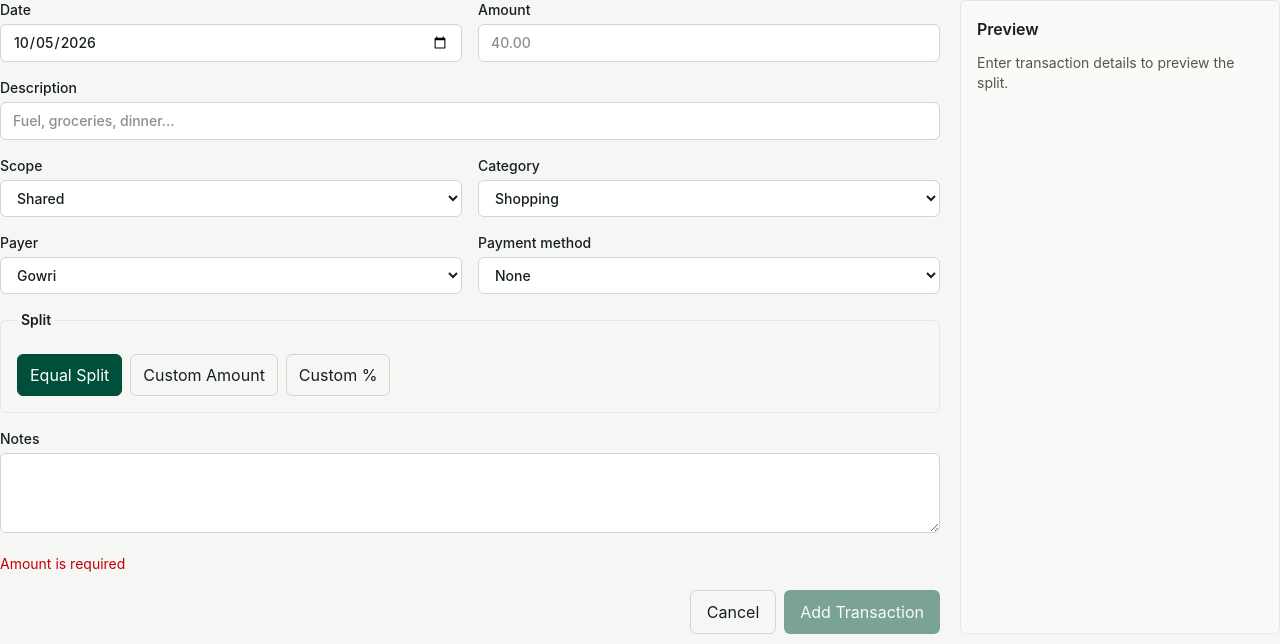
Test case: TransactionForm › custom percentage shows calculated dollar preview
This screenshot has width=1280, height=644.
Type "0.01" into the field labelled "Amount" at [709, 43], box [478,24,940,62]
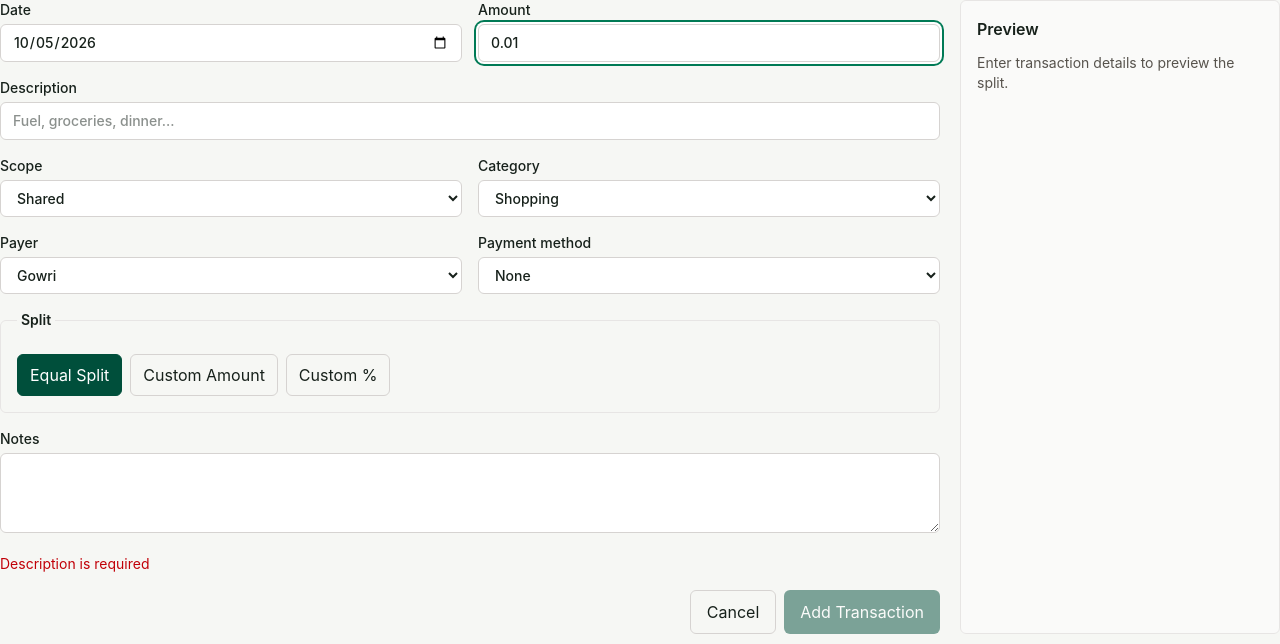
Type "Tiny split" into the field labelled "Description" at [470, 121], box [0,102,940,140]
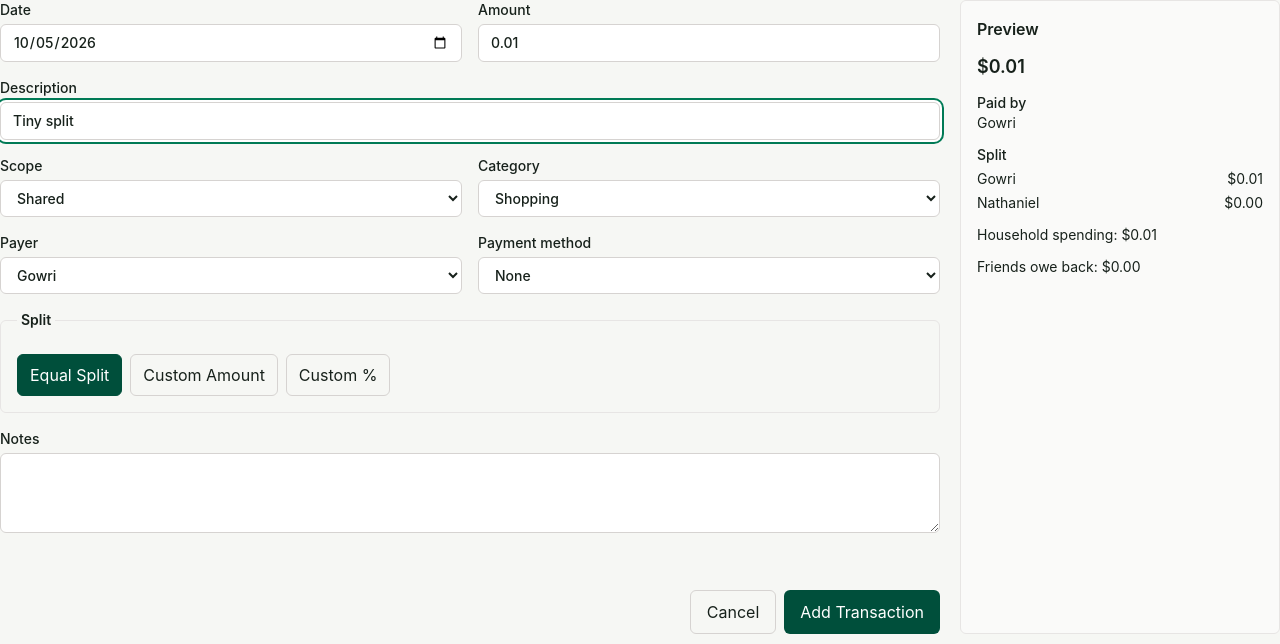
Click the button "Custom %" at [338, 375], box [286,354,390,396]
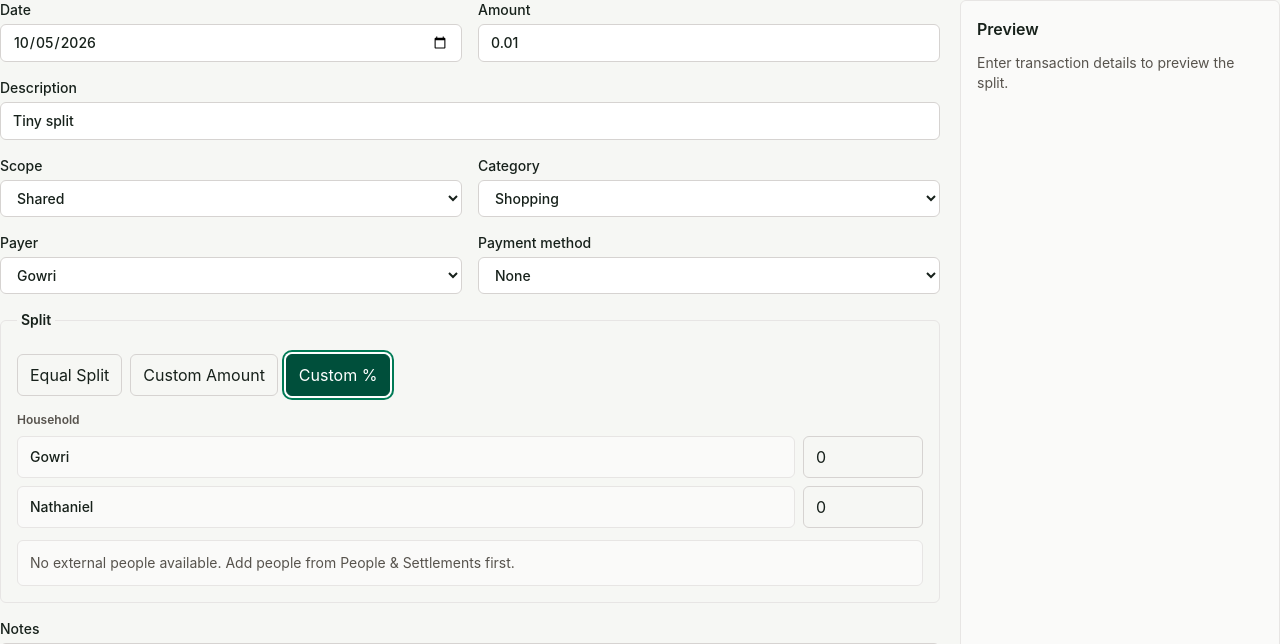
Replace the text in the field named "Gowri percentage" with "50" at [863, 457], box [803,436,923,478]
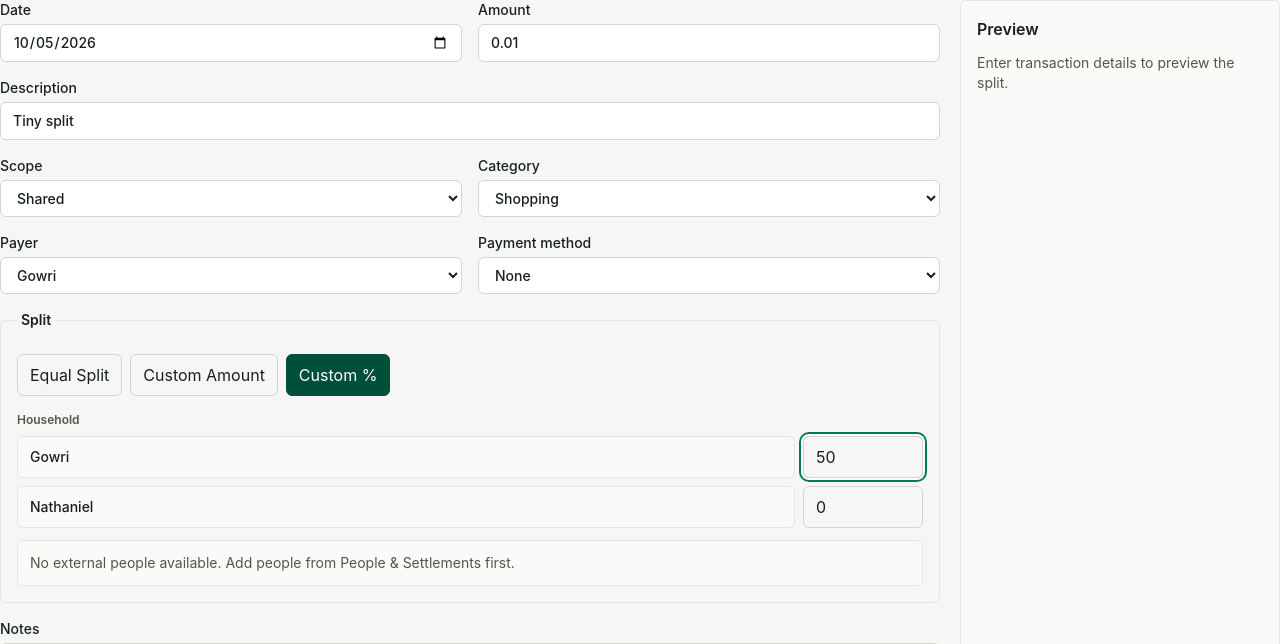
Replace the text in the field named "Nathaniel percentage" with "50" at [863, 507], box [803,486,923,528]
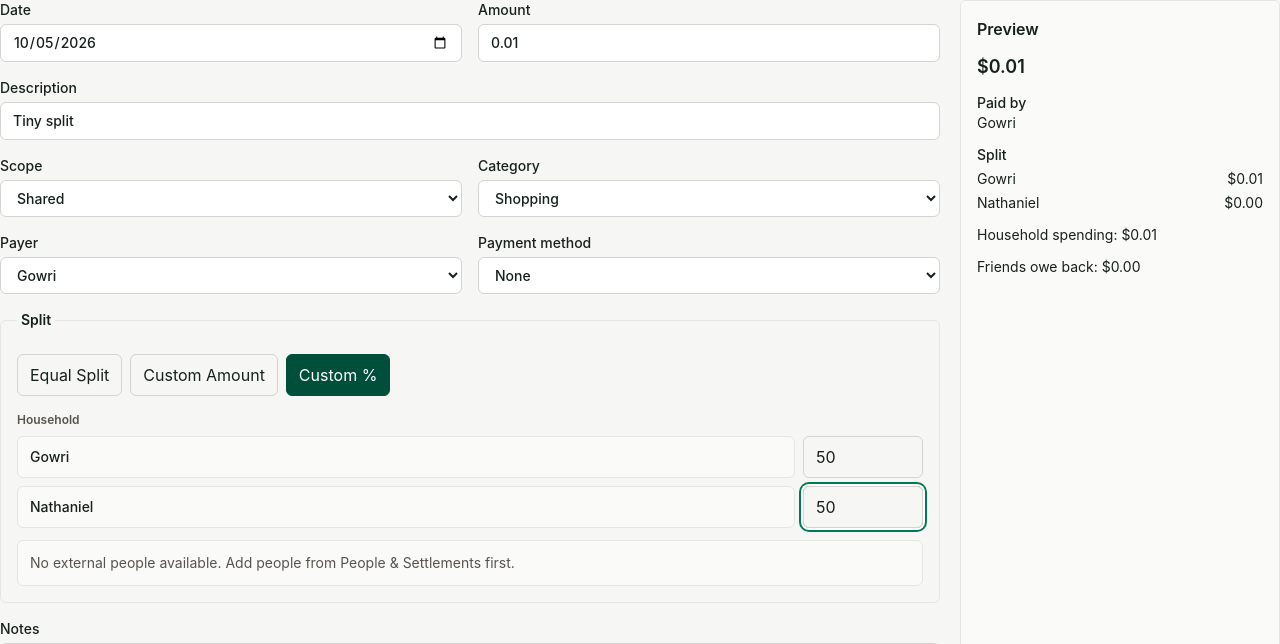
Expected: the text "Preview" is shown, [977,19,1039,39]
Now the 1st text "$0.01" is shown, box [977,56,1025,77]
Now the text "$0.00" is shown, box [1224,193,1263,213]
